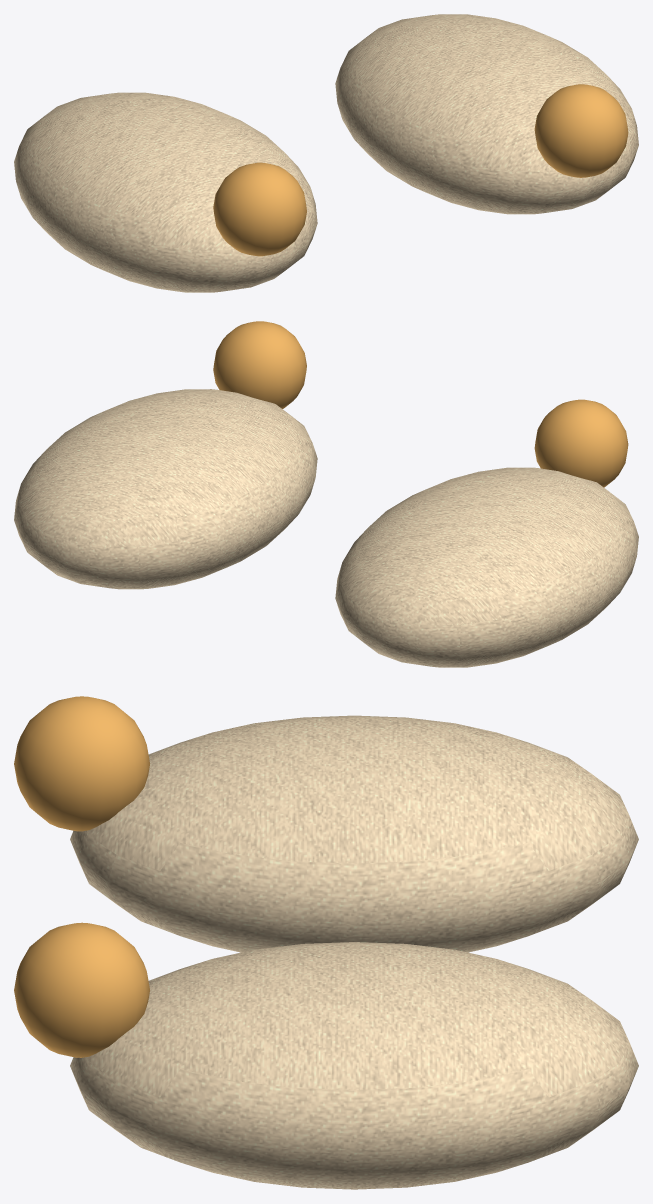
The model's file is slippers3.fbx.
The picture shows the model from 3 angles, top to bottom: view 1: azimuth 30°, elevation 25°; view 2: azimuth 150°, elevation 25°; view 3: azimuth 270°, elevation 25°; orthographic projection. The views are drawn at different scales.
Visible parts, largest first — view 1: slippers3; view 2: slippers3; view 3: slippers3.
Part boxes in pixels (left/top/right/bottom): slippers3: left=14, top=14, right=638, bottom=292; slippers3: left=14, top=321, right=638, bottom=667; slippers3: left=14, top=696, right=638, bottom=1189.
Size of the model in its own units: 0.61 by 0.16 by 0.413.
Materials: 2 (1 with a texture image).
